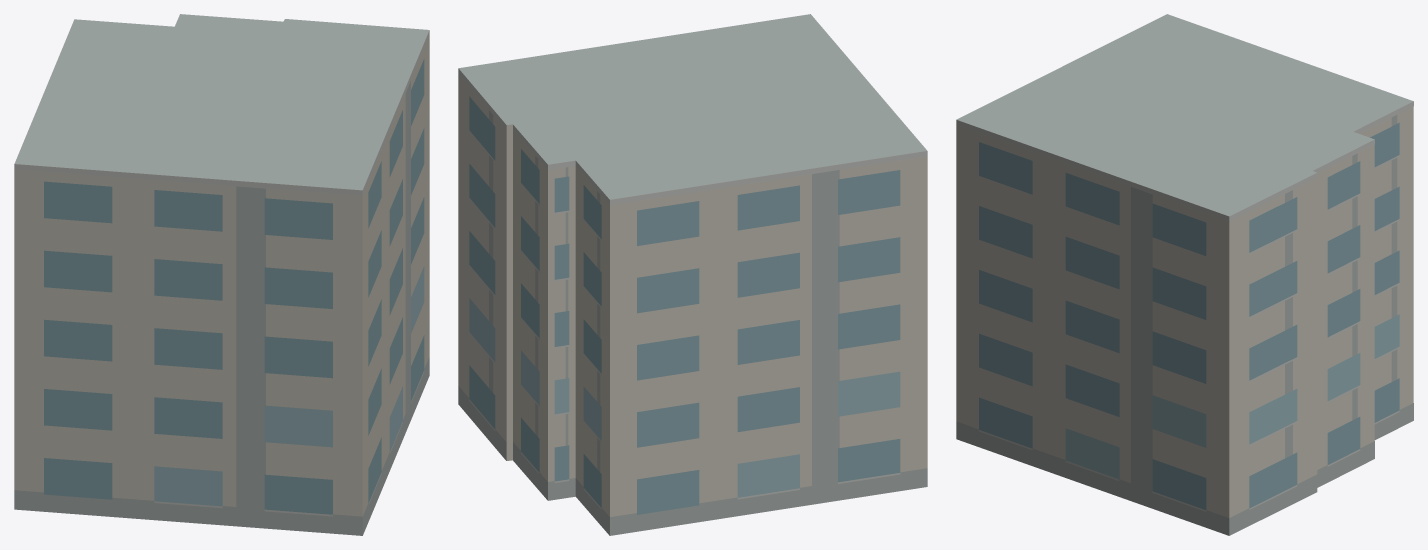
File: survey-upis-32824387.glb
3 renders of one model, left to right at view 1: azimuth 30°, elevation 25°; view 2: azimuth 150°, elevation 25°; view 3: azimuth 270°, elevation 25°, orthographic. The views are drawn at different scales.
Visible parts, largest first — view 1: survey-upis-32824387.tmp; view 2: survey-upis-32824387.tmp; view 3: survey-upis-32824387.tmp.
Part boxes in pixels (box(x1,y1,x2,y2)): survey-upis-32824387.tmp: box(14, 14, 429, 535); survey-upis-32824387.tmp: box(458, 14, 927, 535); survey-upis-32824387.tmp: box(956, 14, 1413, 535).
Bounding box in the file's own units: 20.53 × 15.1 × 19.61.
